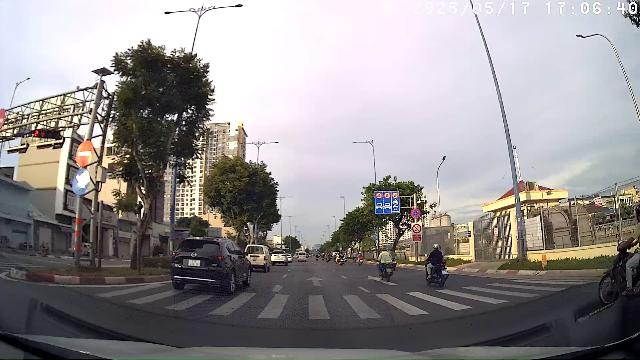127-toc-do-toi-da-50: (392, 192, 398, 199)
127-toc-do-toi-da-60: (384, 192, 391, 199), (376, 192, 382, 199)
130-cam-dung-va-do-xe: (411, 209, 421, 218)
